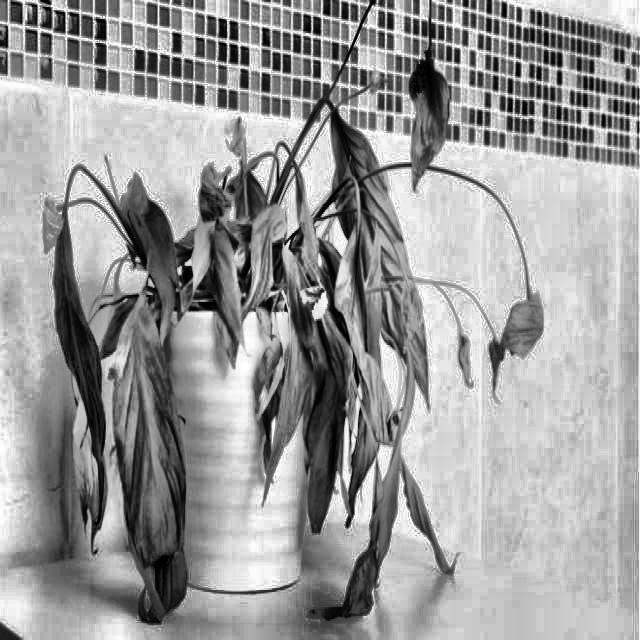plants: (27, 48, 545, 639), (384, 52, 462, 200), (434, 277, 496, 400), (389, 266, 432, 354), (192, 152, 235, 234), (499, 292, 543, 369)
